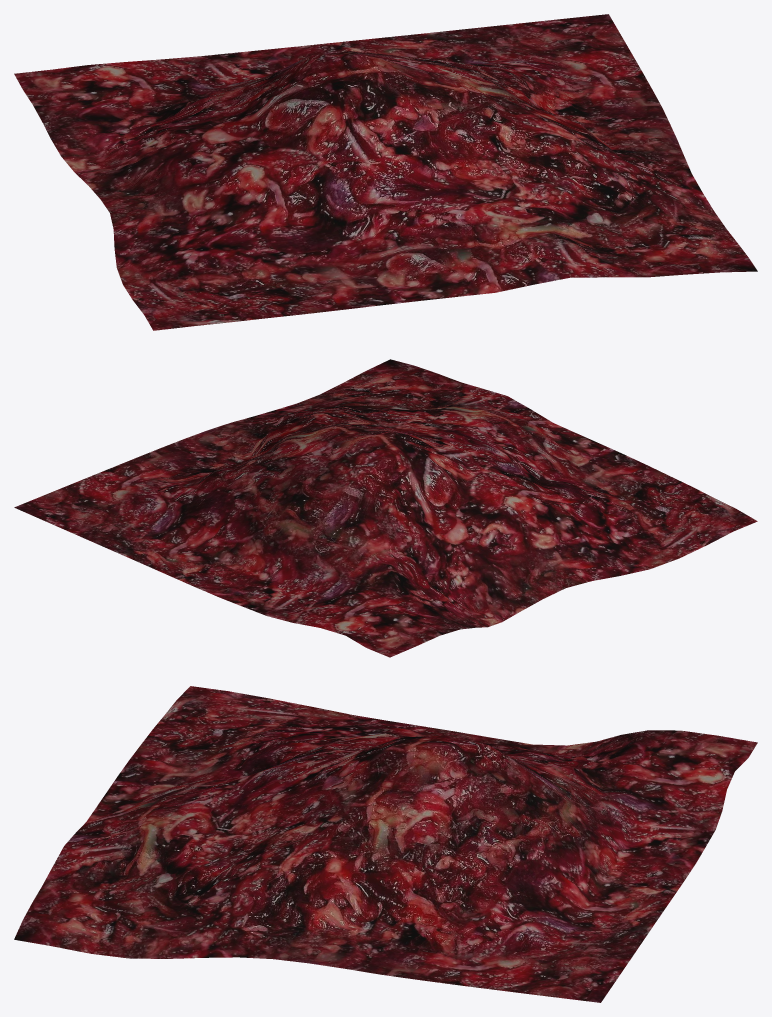
The model's file is bloom_growth_b.glb.
The picture shows the model from 3 angles, top to bottom: view 1: azimuth 30°, elevation 25°; view 2: azimuth 150°, elevation 25°; view 3: azimuth 270°, elevation 25°; orthographic projection. The views are drawn at different scales.
Parts seen in each view (by area): view 1: body; view 2: body; view 3: body.
Boxes of the visible parts, box(x1,y1,x2,y2) form: body: box(14, 14, 757, 330); body: box(14, 359, 757, 657); body: box(14, 686, 757, 1002).
Size of the model in its own units: 1.87 by 0.3 by 1.82.
Materials: 1 (1 with a texture image).
